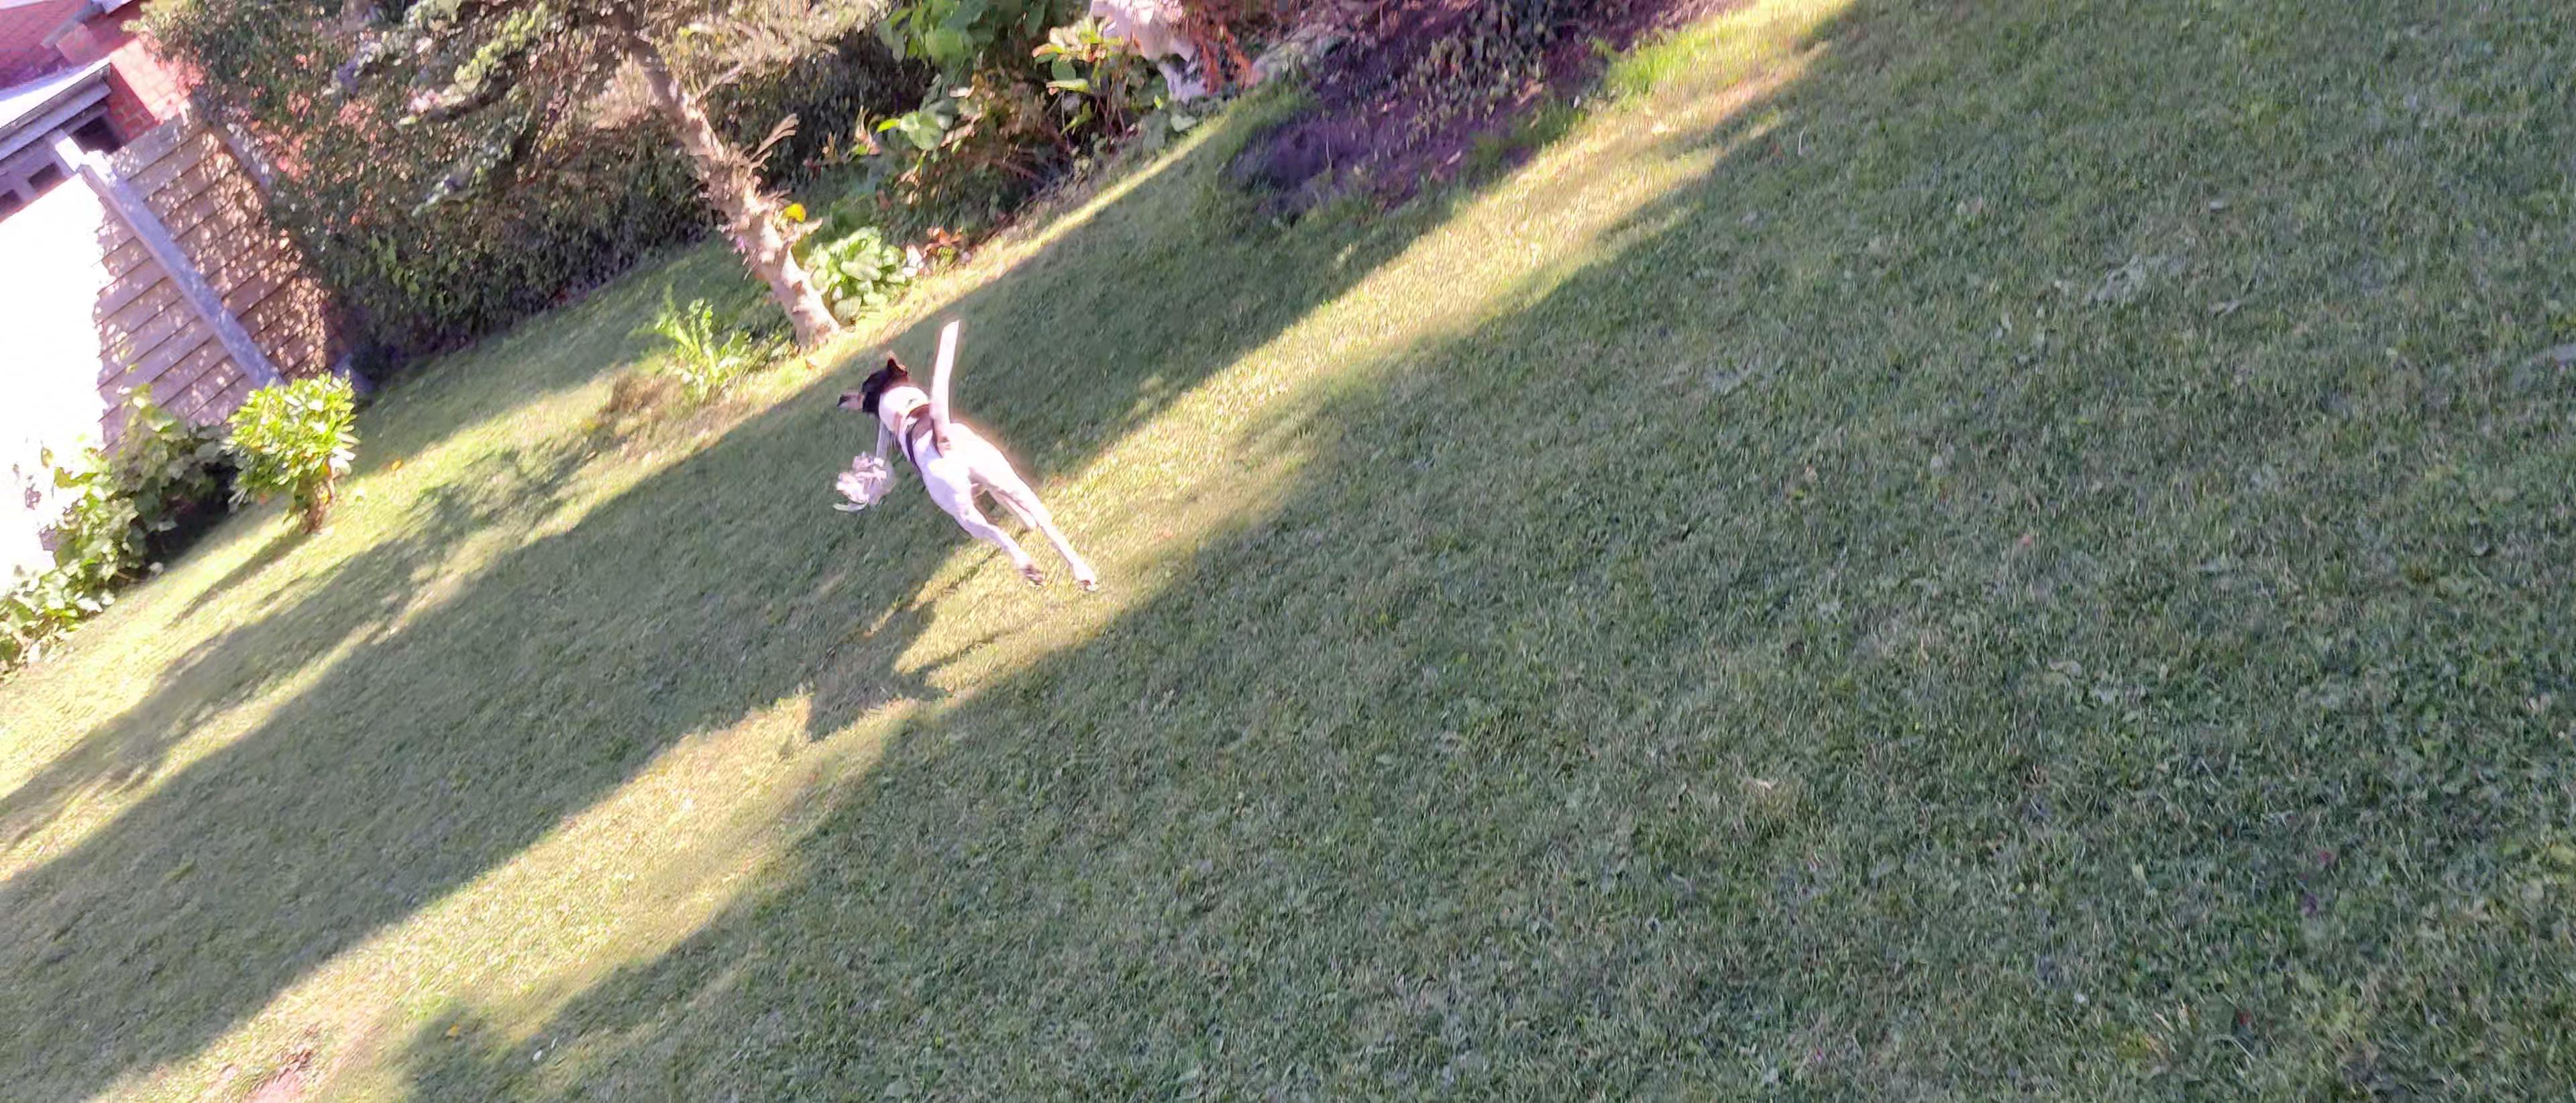Dog: (831, 317, 1101, 602)
